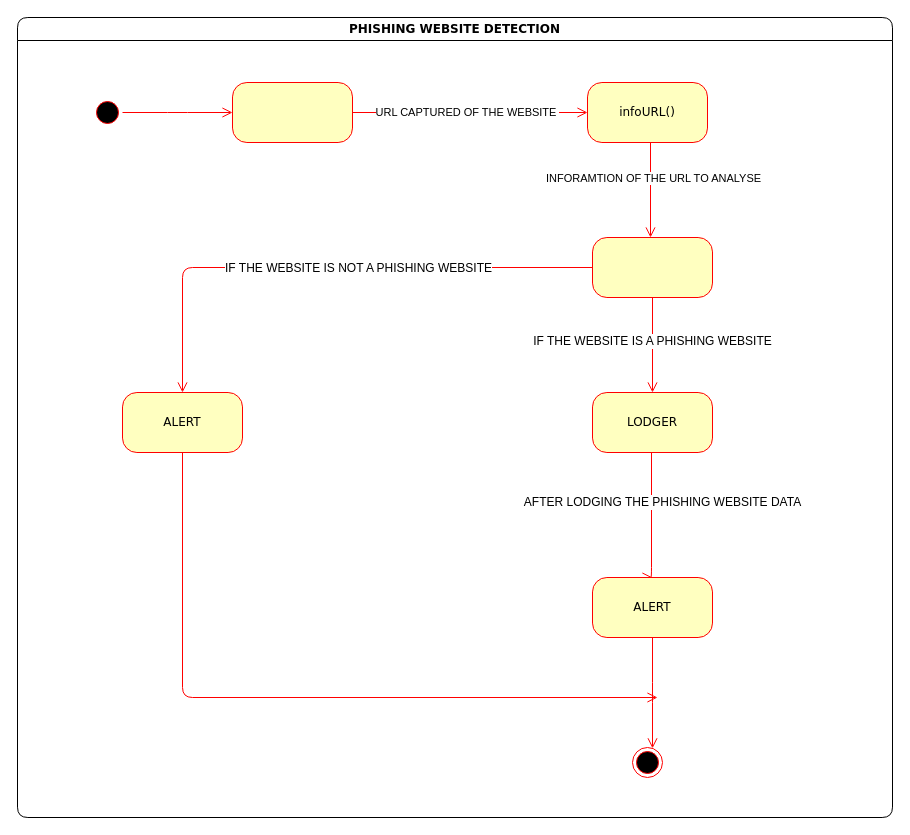
Image size: 910x835. Some labels were removed from this diagram. Here are the shapes that lost their labels. From the top down, the centre of each, then its label:
At point (292, 112): "CAPTURE URL".
At point (652, 267): "ANALYSER".
